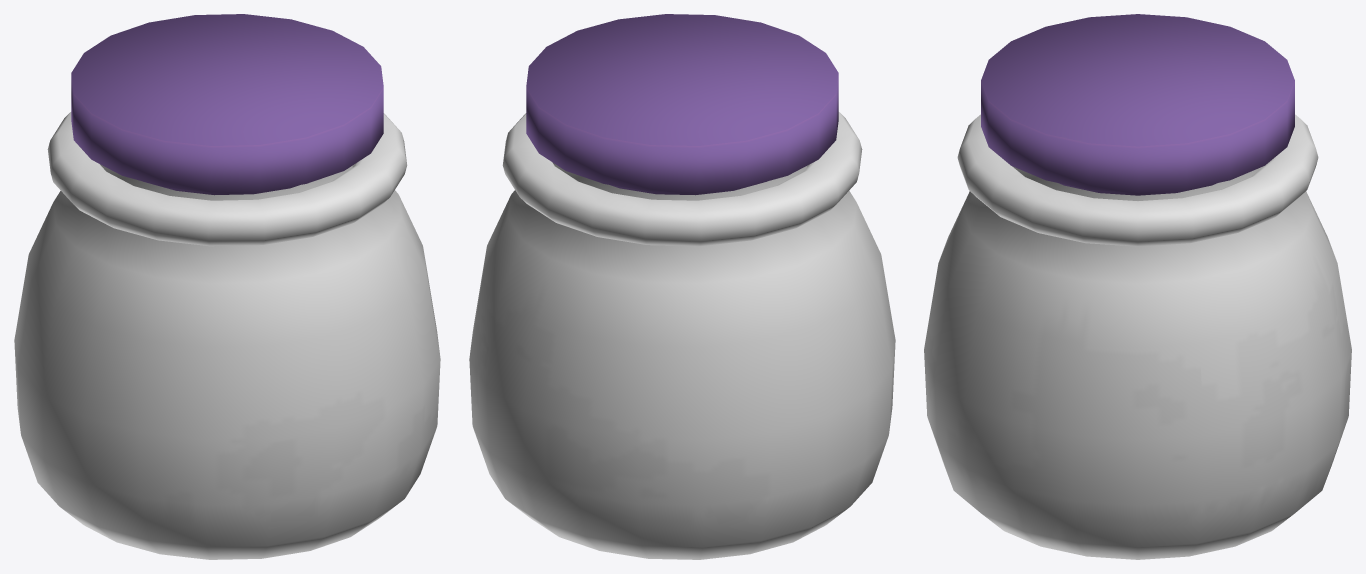
The model's file is pi_glasspot08_berryjam.gltf.
3 renders of one model, left to right at view 1: azimuth 30°, elevation 25°; view 2: azimuth 150°, elevation 25°; view 3: azimuth 270°, elevation 25°, orthographic.
Visible parts, largest first — view 1: pi_glasspot08_outside01_mesh_shape__duprename_828d01ax:pi_gl, glasspot08_lid01_mesh_shape:pi_glasspot08_body, pi_glasspot08_inside01_mesh_shape:pi_glasspot08_glass; view 2: pi_glasspot08_outside01_mesh_shape__duprename_828d01ax:pi_gl, glasspot08_lid01_mesh_shape:pi_glasspot08_body, pi_glasspot08_inside01_mesh_shape:pi_glasspot08_glass; view 3: pi_glasspot08_outside01_mesh_shape__duprename_828d01ax:pi_gl, glasspot08_lid01_mesh_shape:pi_glasspot08_body, pi_glasspot08_inside01_mesh_shape:pi_glasspot08_glass.
Boxes of the visible parts, x1,y1,x2,y2 form: pi_glasspot08_outside01_mesh_shape__duprename_828d01ax:pi_gl: (14,112,440,559); glasspot08_lid01_mesh_shape:pi_glasspot08_body: (71,14,383,195); pi_glasspot08_inside01_mesh_shape:pi_glasspot08_glass: (102,165,352,200); pi_glasspot08_outside01_mesh_shape__duprename_828d01ax:pi_gl: (469,112,895,559); glasspot08_lid01_mesh_shape:pi_glasspot08_body: (526,14,838,195); pi_glasspot08_inside01_mesh_shape:pi_glasspot08_glass: (557,165,807,200); pi_glasspot08_outside01_mesh_shape__duprename_828d01ax:pi_gl: (924,114,1351,559); glasspot08_lid01_mesh_shape:pi_glasspot08_body: (981,14,1294,195); pi_glasspot08_inside01_mesh_shape:pi_glasspot08_glass: (1012,166,1263,200).
Bounding box in the file's own units: 0.0943 × 0.0997 × 0.0943.
4 materials, 4 textured.
